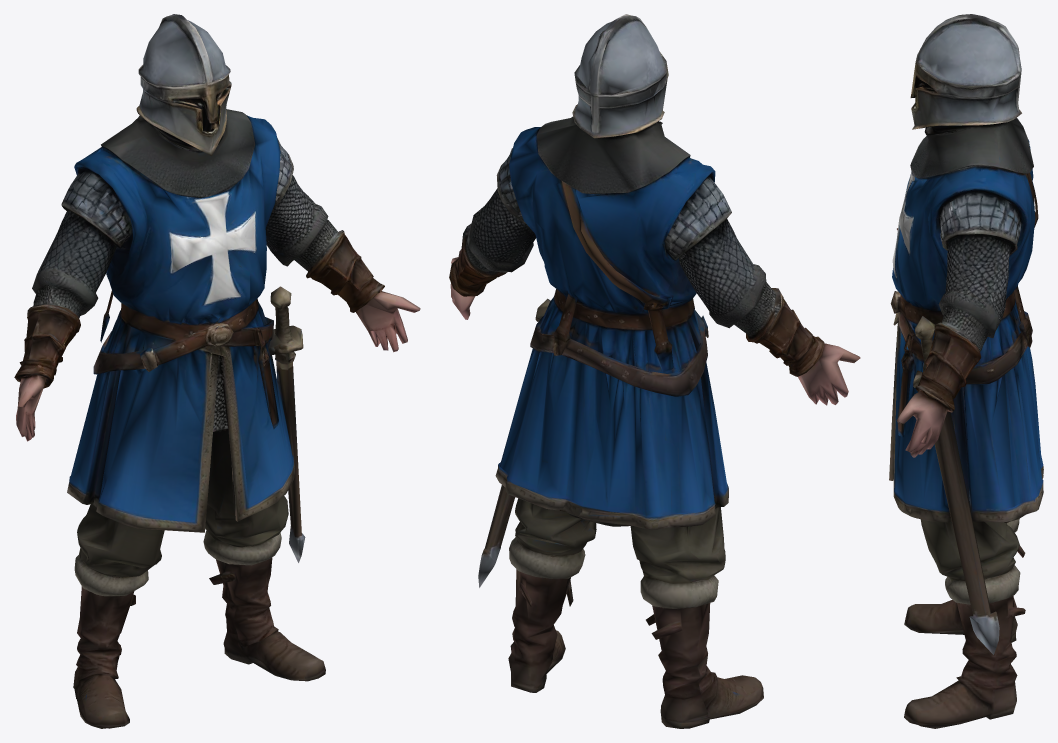
The model's file is hum_spear.glb.
The picture shows the model from 3 angles, left to right: view 1: azimuth 30°, elevation 25°; view 2: azimuth 150°, elevation 25°; view 3: azimuth 270°, elevation 25°; orthographic projection. The views are drawn at different scales.
Visible parts, largest first — view 1: node_0; view 2: node_0; view 3: node_0.
Part boxes in pixels (left/top/right/bottom): node_0: left=14, top=14, right=420, bottom=728; node_0: left=449, top=14, right=860, bottom=728; node_0: left=889, top=14, right=1043, bottom=728.
Bounding box in the file's own units: 0.7142 × 1.13 × 0.2405.
1 material, 1 textured.
